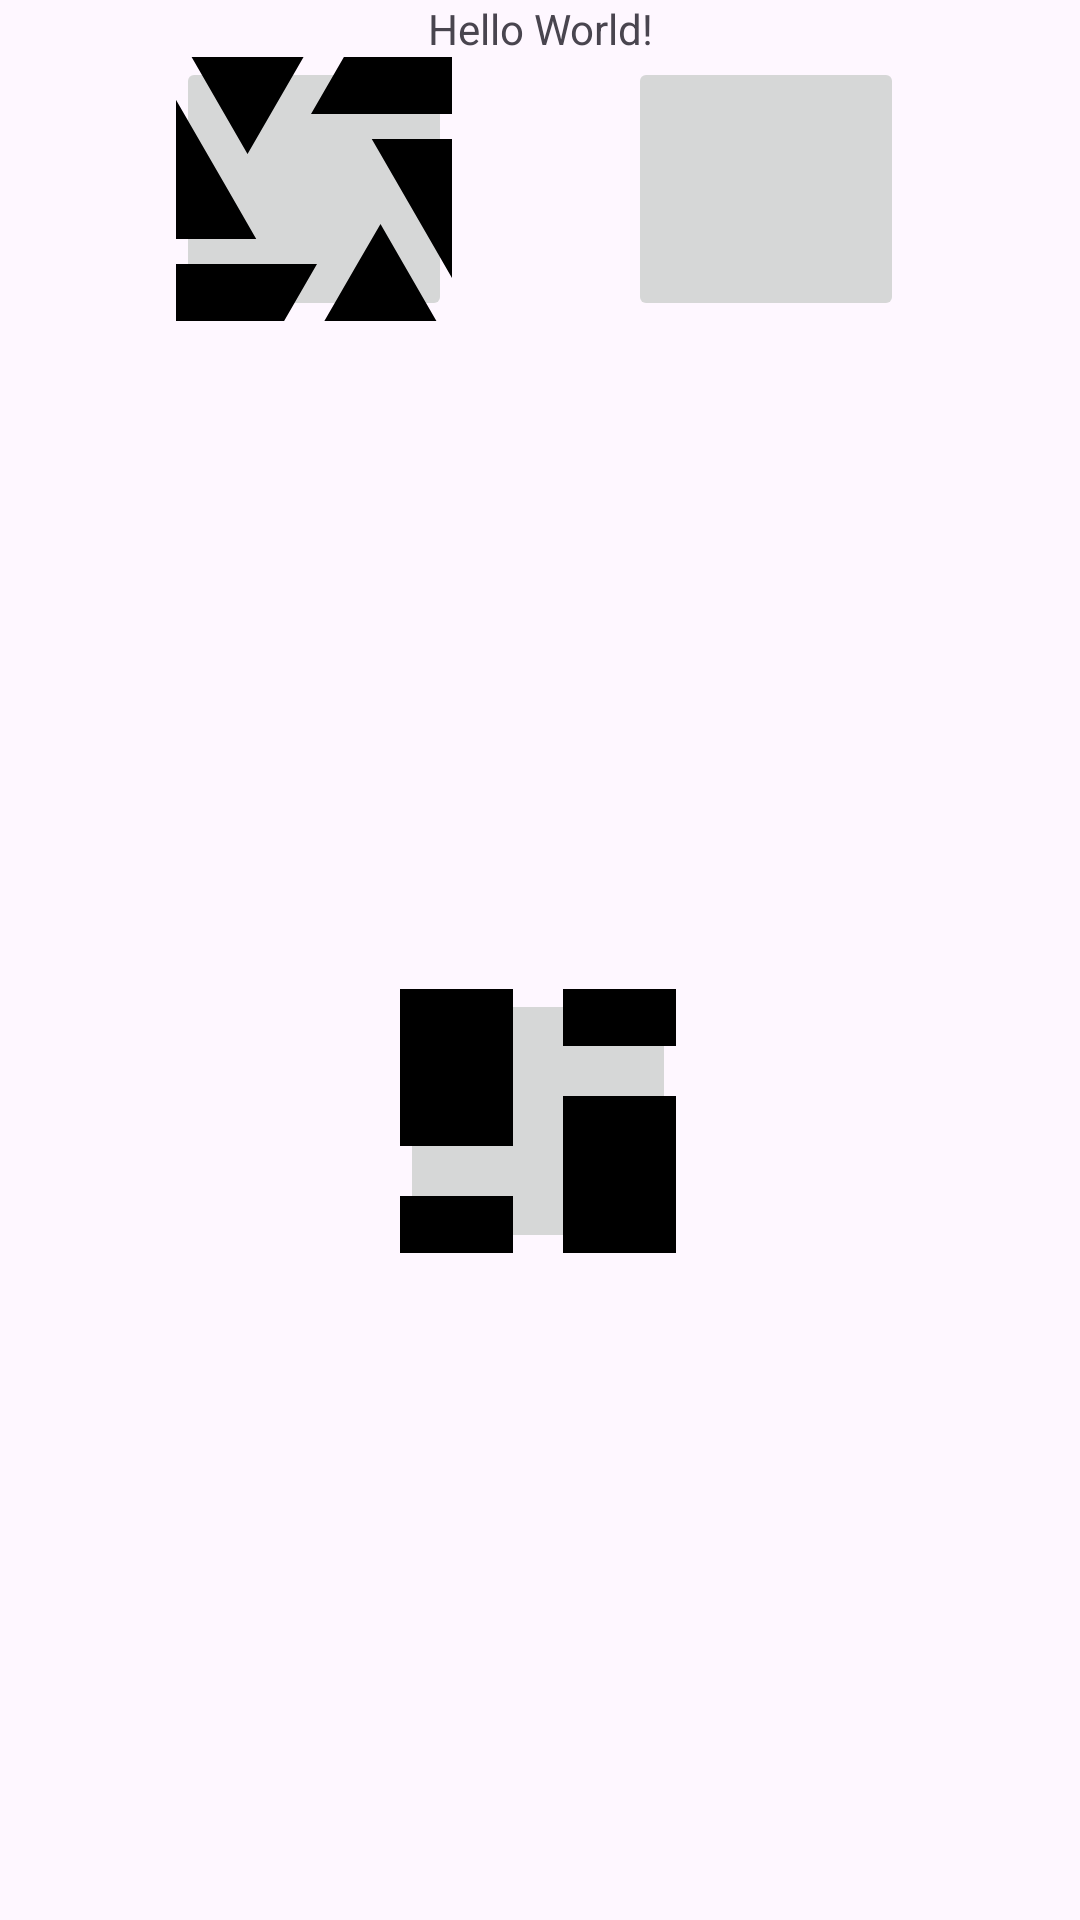

Icon click points for this 1080×1920 phone screenshot, format (x,y):
camera: (314,189)
Коллекция: (538,1121)
